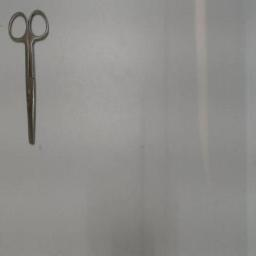Dressing Scissors: (4, 4, 54, 150)
